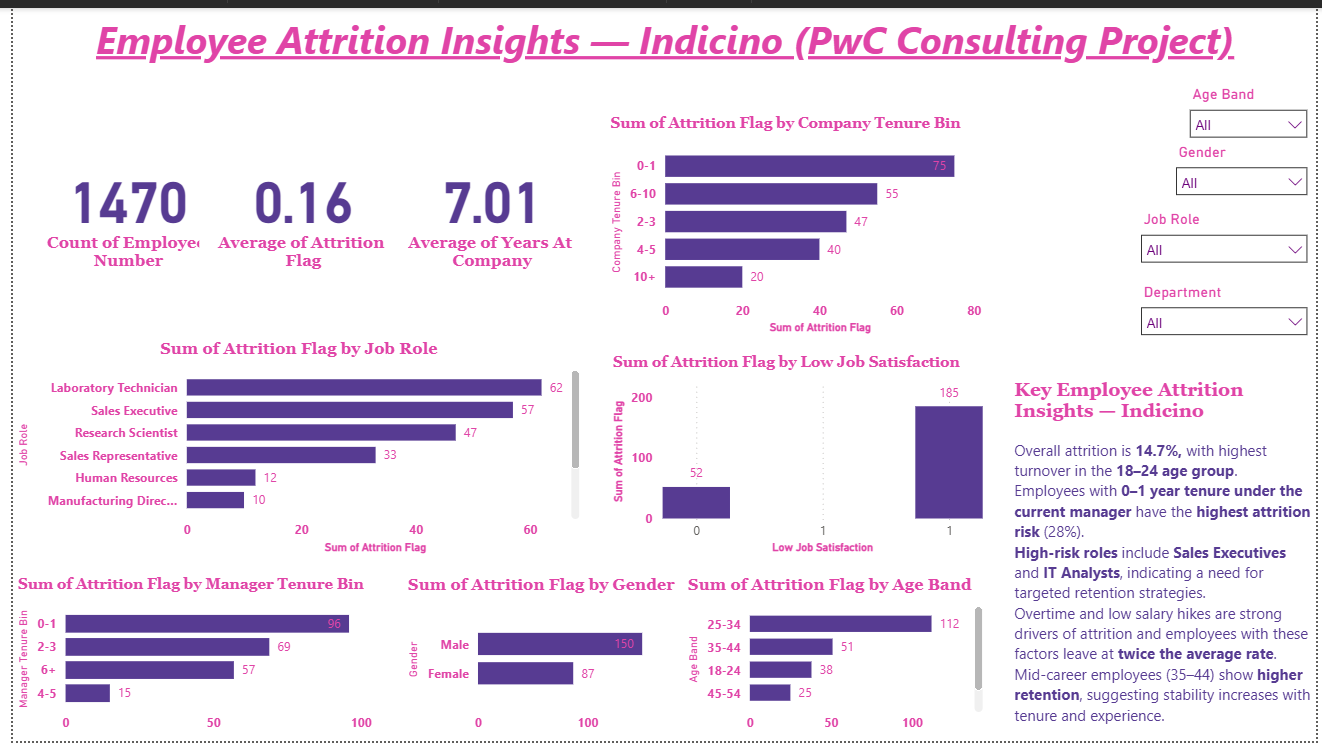

This screenshot's page, from the dashboard's own definition file:
{"tool":"powerbi","page":{"name":"Page 1","canvas":[1280,720],"ordinal":0},"visuals":[{"type":"barChart","fields":{"Category":["indicino_cleaned_engineered.Age Band"],"Y":["Sum(indicino_cleaned_engineered.Attrition Flag)"]},"box":[657.7,557.1,299.4,163.2],"z":0},{"type":"barChart","fields":{"Y":["Sum(indicino_cleaned_engineered.Attrition Flag)"],"Category":["indicino_cleaned_engineered.Manager Tenure Bin"]},"box":[0,557.1,353.4,163.2],"z":1000},{"type":"barChart","fields":{"Y":["Sum(indicino_cleaned_engineered.Attrition Flag)"],"Category":["indicino_cleaned_engineered.Gender"]},"box":[366.9,557.1,274.8,163.2],"z":2000},{"type":"card","fields":{"Values":["CountNonNull(indicino_cleaned_engineered.Employee Number)"]},"box":[0,61.4,176.7,250.3],"z":3000},{"type":"card","fields":{"Values":["Avg(indicino_cleaned_engineered.Years At Company)","select"]},"box":[379.1,61.4,181.6,250.3],"z":4000},{"type":"barChart","fields":{"Category":["indicino_cleaned_engineered.Job Role"],"Y":["Sum(indicino_cleaned_engineered.Attrition Flag)"]},"box":[0,325.2,561.2,215.4],"z":5000},{"type":"barChart","fields":{"Y":["Sum(indicino_cleaned_engineered.Attrition Flag)"],"Category":["indicino_cleaned_engineered.Company Tenure Bin"]},"box":[581.6,104.3,375.5,220.9],"z":6000},{"type":"columnChart","fields":{"Category":["indicino_cleaned_engineered.Low Job Satisfaction","indicino_cleaned_engineered.Overtime Flag"],"Y":["Sum(indicino_cleaned_engineered.Attrition Flag)"]},"box":[584.1,338.7,373,202.5],"z":7000},{"type":"slicer","fields":{"Values":["indicino_cleaned_engineered.Department"]},"box":[1096.4,264.8,183.9,60.4],"z":8000},{"type":"slicer","fields":{"Values":["indicino_cleaned_engineered.Job Role"]},"box":[1096.4,193.5,183.9,72.7],"z":9000},{"type":"slicer","fields":{"Values":["indicino_cleaned_engineered.Age Band"]},"box":[1144.4,71.4,135.8,68.6],"z":10000},{"type":"slicer","fields":{"Values":["indicino_cleaned_engineered.Gender"]},"box":[1130.7,127.6,149.6,65.9],"z":11000},{"type":"textbox","box":[0,0,1280.3,61.7],"z":12000},{"type":"card","fields":{"Values":["Avg(indicino_cleaned_engineered.Attrition Flag)"]},"box":[190.2,61.4,176.7,250.3],"z":13000},{"type":"textbox","box":[977.9,359.5,301.8,360.7],"z":14000}]}

Visuals, with their boxes in screenshot pixels (x1, y1, x2, y2), scaled from the page's 1280x720 canvas onto the 1322x748 screenshot:
barChart - indicino_cleaned_engineered.Age Band x Sum(indicino_cleaned_engineered.Attrition Flag): bbox(679, 579, 989, 747)
barChart - Sum(indicino_cleaned_engineered.Attrition Flag) x indicino_cleaned_engineered.Manager Tenure Bin: bbox(0, 579, 365, 747)
barChart - Sum(indicino_cleaned_engineered.Attrition Flag) x indicino_cleaned_engineered.Gender: bbox(379, 579, 663, 747)
card - CountNonNull(indicino_cleaned_engineered.Employee Number): bbox(0, 64, 182, 324)
card - Avg(indicino_cleaned_engineered.Years At Company) x select: bbox(392, 64, 579, 324)
barChart - indicino_cleaned_engineered.Job Role x Sum(indicino_cleaned_engineered.Attrition Flag): bbox(0, 338, 580, 562)
barChart - Sum(indicino_cleaned_engineered.Attrition Flag) x indicino_cleaned_engineered.Company Tenure Bin: bbox(601, 108, 989, 338)
columnChart - indicino_cleaned_engineered.Low Job Satisfaction x indicino_cleaned_engineered.Overtime Flag: bbox(603, 352, 989, 562)
slicer - indicino_cleaned_engineered.Department: bbox(1132, 275, 1321, 338)
slicer - indicino_cleaned_engineered.Job Role: bbox(1132, 201, 1321, 277)
slicer - indicino_cleaned_engineered.Age Band: bbox(1182, 74, 1321, 145)
slicer - indicino_cleaned_engineered.Gender: bbox(1168, 133, 1321, 201)
textbox: bbox(0, 0, 1321, 64)
card - Avg(indicino_cleaned_engineered.Attrition Flag): bbox(196, 64, 379, 324)
textbox: bbox(1010, 373, 1321, 747)
